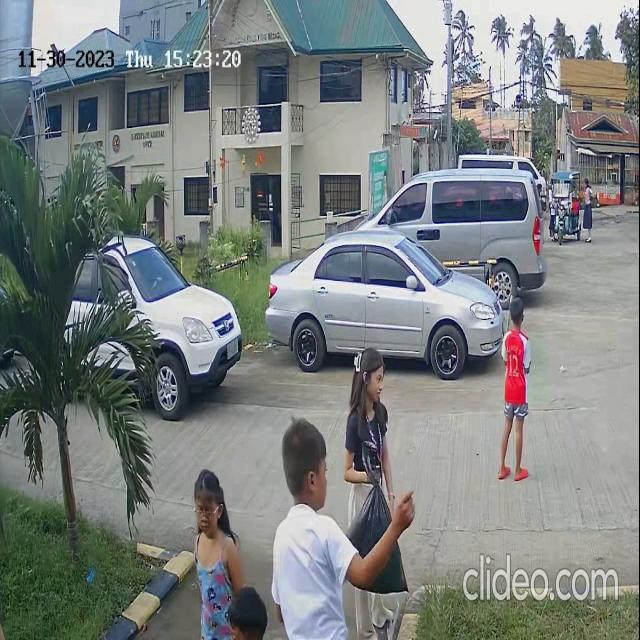garbage: (346, 482, 389, 544)
person: (188, 469, 234, 630), (344, 343, 388, 509), (502, 304, 530, 398)
